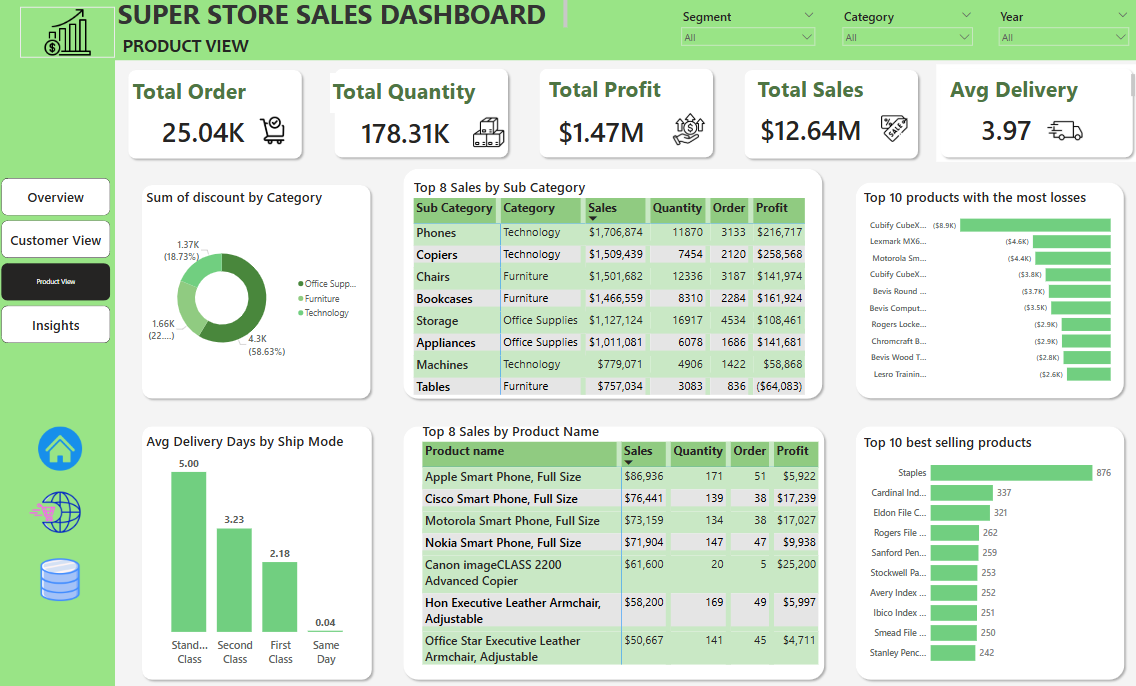

Layout of this report page (visuals, bound fields, positions):
{"tool":"powerbi","page":{"name":"Product View","canvas":[2300,1400],"ordinal":2},"visuals":[{"type":"shape","box":[0,0,2300,135],"z":0},{"type":"shape","box":[0,128.4,240.2,1272.1],"z":1000},{"type":"textbox","box":[240,0,910,77.5],"z":2000},{"type":"image","box":[50,27.5,190,102.5],"z":3000},{"type":"shape","box":[258.6,145.3,365,195],"z":4000},{"type":"shape","box":[669.3,142.8,365,195],"z":5000},{"type":"shape","box":[1080,142.8,365,195],"z":6000},{"type":"shape","box":[1490.7,143.8,365,195],"z":7000},{"type":"card","fields":{"Values":["superstore_sales_clean.Total Order"]},"box":[246.3,207.3,337.8,135.6],"z":8000},{"type":"textbox","box":[270.9,160.4,257.5,80],"z":9000},{"type":"image","box":[462.5,242.5,182.5,65],"z":10000},{"type":"card","fields":{"Values":["superstore_sales_clean.Total Quantity"]},"box":[681.1,212.5,281.1,128.2],"z":11000},{"type":"textbox","box":[670.7,160.7,317.5,80],"z":12000},{"type":"image","box":[905,242.5,165,72.5],"z":13000},{"type":"card","fields":{"Values":["superstore_sales_clean.Total Profit"]},"box":[1062.5,220.3,300,112.5],"z":14000},{"type":"textbox","box":[1102.5,157.8,260,77.5],"z":15000},{"type":"image","box":[1330,235,115,75],"z":16000},{"type":"card","fields":{"Values":["superstore_sales_clean.Total Sales"]},"box":[1492.5,217.8,277.5,110],"z":17000},{"type":"textbox","box":[1520,157.8,257.5,80],"z":18000},{"type":"image","box":[1742.5,240,112.5,62.5],"z":19000},{"type":"shape","box":[808.4,342.4,856,477.9],"z":20000},{"type":"shape","box":[1883.2,142.7,401.8,195],"z":21000},{"type":"card","fields":{"Values":["superstore_sales_clean.Avg Delivery Days"]},"box":[1905,220,235,102.5],"z":22000},{"type":"textbox","box":[1905,157.5,380,80],"z":23000},{"type":"image","box":[2080,235,120,80],"z":24000},{"type":"slicer","fields":{"Values":["Date Table.Year"]},"box":[1997.5,25,280,85],"z":25000},{"type":"slicer","fields":{"Values":["superstore_sales_clean.category"]},"box":[1685,25,280,85],"z":26000},{"type":"slicer","fields":{"Values":["superstore_sales_clean.segment"]},"box":[1362.5,25,287.5,85],"z":27000},{"type":"image","box":[81.9,1124,95,97.5],"z":28000},{"type":"image","box":[74.4,861.5,110,97.5],"z":29000},{"type":"image","box":[61.9,981.5,115,112.5],"z":30000},{"type":"pivotTable","title":"Top 8 Sales by Sub Category","fields":{"Rows":["superstore_sales_clean.sub_category"],"Values":["Min(superstore_sales_clean.category)","superstore_sales_clean.Total Sales","Sum(superstore_sales_clean.quantity)","superstore_sales_clean.Total_Order_format","superstore_sales_clean.Total Profit"]},"box":[832.2,370.9,817.9,444.6],"z":31000},{"type":"shape","box":[284.1,374.8,475,445],"z":32000},{"type":"donutChart","title":"Sum of discount by Category","fields":{"Y":["Sum(superstore_sales_clean.discount)"],"Category":["superstore_sales_clean.category"]},"box":[296.6,389.8,442.5,405],"z":33000},{"type":"shape","box":[808.1,856.6,860,525],"z":34000},{"type":"pivotTable","title":"Top 8 Sales by Product Name","fields":{"Values":["superstore_sales_clean.Total Sales","Sum(superstore_sales_clean.quantity)","superstore_sales_clean.Total_Order_format","superstore_sales_clean.Total Profit"],"Rows":["superstore_sales_clean.product_name"]},"box":[849.3,858.5,805,497.5],"z":35000},{"type":"shape","box":[285.6,856.6,477.5,525],"z":36000},{"type":"columnChart","title":"Avg Delivery Days by Ship Mode","fields":{"Y":["superstore_sales_clean.Avg Delivery Days"],"Category":["superstore_sales_clean.ship_mode"]},"box":[298.1,877.6,442.5,477.5],"z":37000},{"type":"shape","box":[1712,370.9,554,449.4],"z":38000},{"type":"barChart","title":"Top 10 products with the most losses","fields":{"Category":["superstore_sales_clean.product_name"],"Y":["superstore_sales_clean.Total Profit"]},"box":[1733.4,389.9,504.1,404.2],"z":39000},{"type":"shape","box":[1713.1,856.6,555,525],"z":40000},{"type":"barChart","title":"Top 10 best selling products","fields":{"Category":["superstore_sales_clean.product_name"],"Y":["Sum(superstore_sales_clean.quantity)"]},"box":[1733.1,880.4,505,477.5],"z":41000},{"type":"textbox","box":[249.7,78.5,299.6,57.1],"z":42000},{"type":"pageNavigator","box":[11.9,370.9,218.8,330.5],"z":43000}]}

Visuals, with their boxes on the page's 2300x1400 design canvas (x1, y1, x2, y2). These are canvas units, not pixel positions in the 1136x686 screenshot, which may show the page scaled, cropped or inside an application window:
shape: (x1=0, y1=0, x2=2300, y2=135)
shape: (x1=0, y1=128, x2=240, y2=1400)
textbox: (x1=240, y1=0, x2=1150, y2=78)
image: (x1=50, y1=28, x2=240, y2=130)
shape: (x1=259, y1=145, x2=624, y2=340)
shape: (x1=669, y1=143, x2=1034, y2=338)
shape: (x1=1080, y1=143, x2=1445, y2=338)
shape: (x1=1491, y1=144, x2=1856, y2=339)
card - superstore_sales_clean.Total Order: (x1=246, y1=207, x2=584, y2=343)
textbox: (x1=271, y1=160, x2=528, y2=240)
image: (x1=462, y1=242, x2=645, y2=308)
card - superstore_sales_clean.Total Quantity: (x1=681, y1=212, x2=962, y2=341)
textbox: (x1=671, y1=161, x2=988, y2=241)
image: (x1=905, y1=242, x2=1070, y2=315)
card - superstore_sales_clean.Total Profit: (x1=1062, y1=220, x2=1362, y2=333)
textbox: (x1=1102, y1=158, x2=1362, y2=235)
image: (x1=1330, y1=235, x2=1445, y2=310)
card - superstore_sales_clean.Total Sales: (x1=1492, y1=218, x2=1770, y2=328)
textbox: (x1=1520, y1=158, x2=1778, y2=238)
image: (x1=1742, y1=240, x2=1855, y2=302)
shape: (x1=808, y1=342, x2=1664, y2=820)
shape: (x1=1883, y1=143, x2=2285, y2=338)
card - superstore_sales_clean.Avg Delivery Days: (x1=1905, y1=220, x2=2140, y2=322)
textbox: (x1=1905, y1=158, x2=2285, y2=238)
image: (x1=2080, y1=235, x2=2200, y2=315)
slicer - Date Table.Year: (x1=1998, y1=25, x2=2278, y2=110)
slicer - superstore_sales_clean.category: (x1=1685, y1=25, x2=1965, y2=110)
slicer - superstore_sales_clean.segment: (x1=1362, y1=25, x2=1650, y2=110)
image: (x1=82, y1=1124, x2=177, y2=1222)
image: (x1=74, y1=862, x2=184, y2=959)
image: (x1=62, y1=982, x2=177, y2=1094)
"Top 8 Sales by Sub Category" pivotTable: (x1=832, y1=371, x2=1650, y2=816)
shape: (x1=284, y1=375, x2=759, y2=820)
"Sum of discount by Category" donutChart: (x1=297, y1=390, x2=739, y2=795)
shape: (x1=808, y1=857, x2=1668, y2=1382)
"Top 8 Sales by Product Name" pivotTable: (x1=849, y1=858, x2=1654, y2=1356)
shape: (x1=286, y1=857, x2=763, y2=1382)
"Avg Delivery Days by Ship Mode" columnChart: (x1=298, y1=878, x2=741, y2=1355)
shape: (x1=1712, y1=371, x2=2266, y2=820)
"Top 10 products with the most losses" barChart: (x1=1733, y1=390, x2=2238, y2=794)
shape: (x1=1713, y1=857, x2=2268, y2=1382)
"Top 10 best selling products" barChart: (x1=1733, y1=880, x2=2238, y2=1358)
textbox: (x1=250, y1=78, x2=549, y2=136)
pageNavigator: (x1=12, y1=371, x2=231, y2=701)
